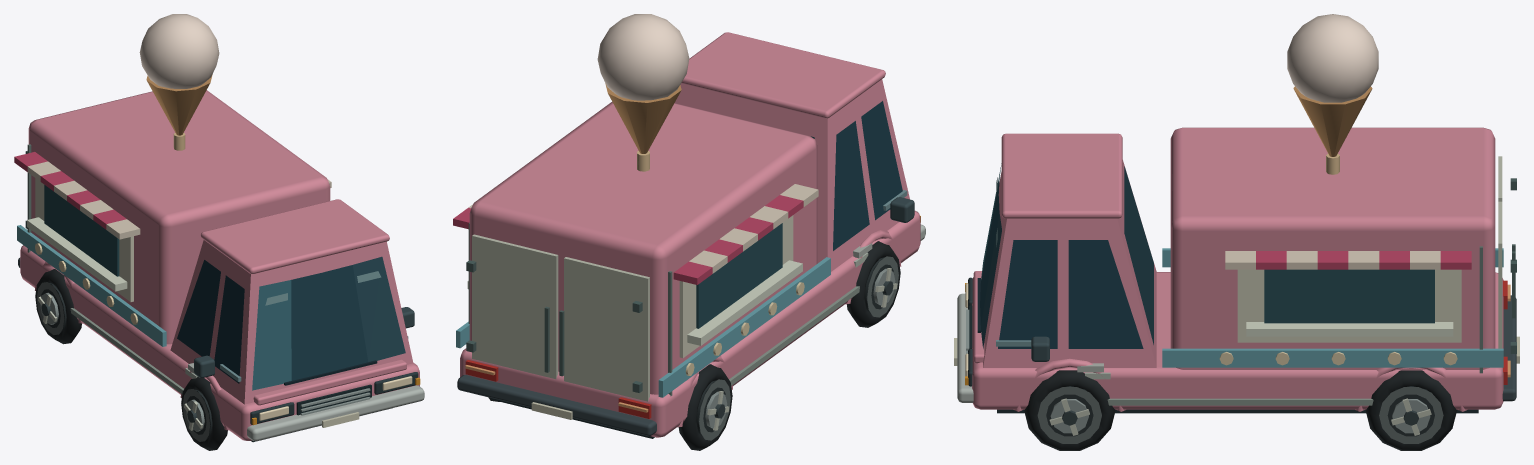
The model's file is icecream.glb.
The picture shows the model from 3 angles, left to right: view 1: azimuth 30°, elevation 25°; view 2: azimuth 150°, elevation 25°; view 3: azimuth 270°, elevation 25°; orthographic projection. The views are drawn at different scales.
Visible parts, largest first — view 1: icecream_body; view 2: icecream_body; view 3: icecream_body.
Boxes of the visible parts, <box> form: icecream_body: <box>14,14,424,450</box>; icecream_body: <box>453,14,925,450</box>; icecream_body: <box>954,14,1519,450</box>.
Size of the model in its own units: 2.49 by 3.62 by 4.85.
